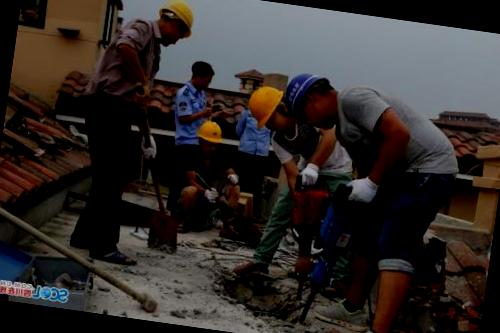no_helmet: (184, 58, 220, 92)
